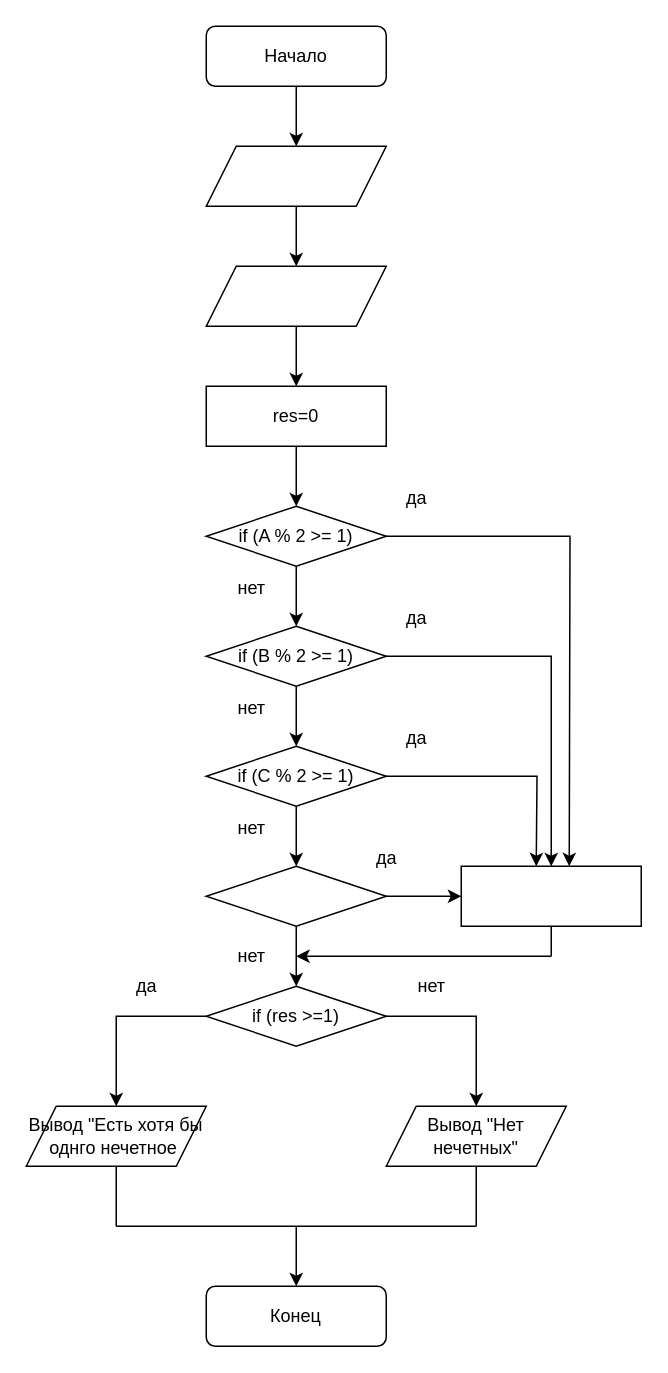
Some shapes in this 668 by 1373 pixel diagram are drawn without their labels. The shapes that lost their labels are listed below. From the top down, each one's box as (x1, y1, x2, y2) in pixels, then its label:
(205, 145, 386, 206): Ввод A, B, C, D
(205, 265, 386, 326): Ввод res
(205, 865, 386, 926): if (D % 2 >= 1)
(460, 865, 641, 926): res=res+1
